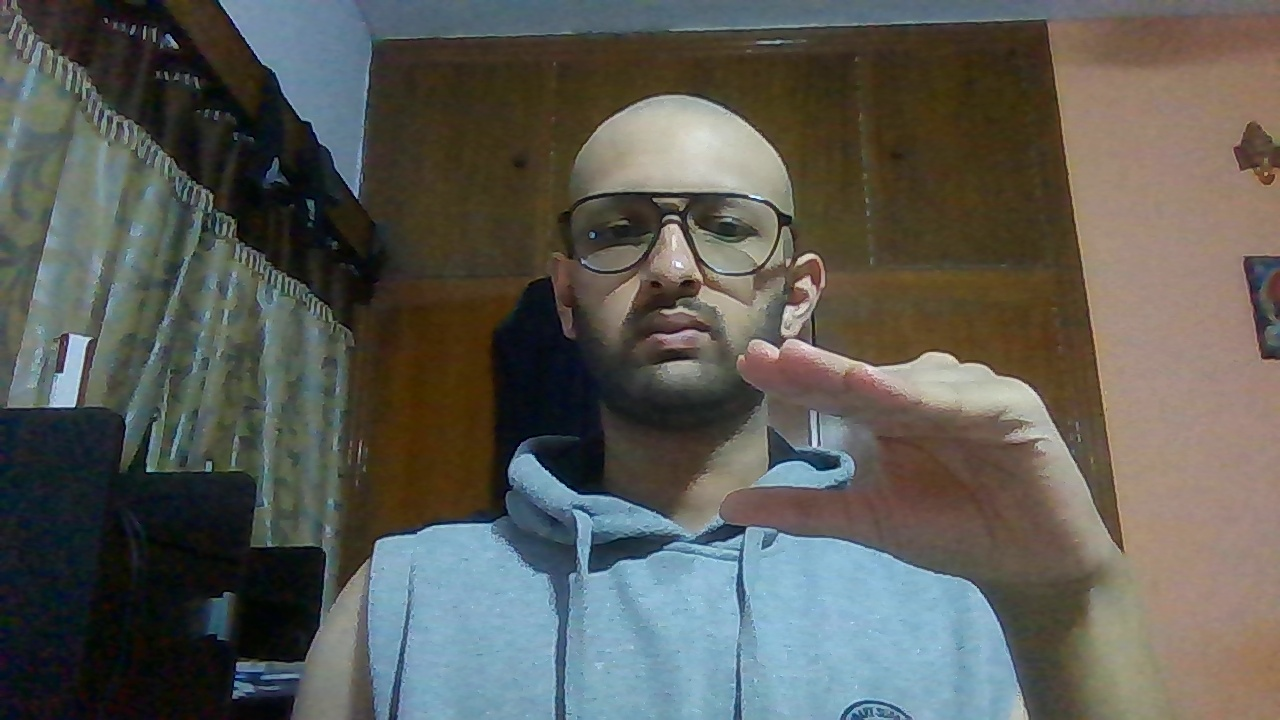No: (715, 330, 1118, 594)
